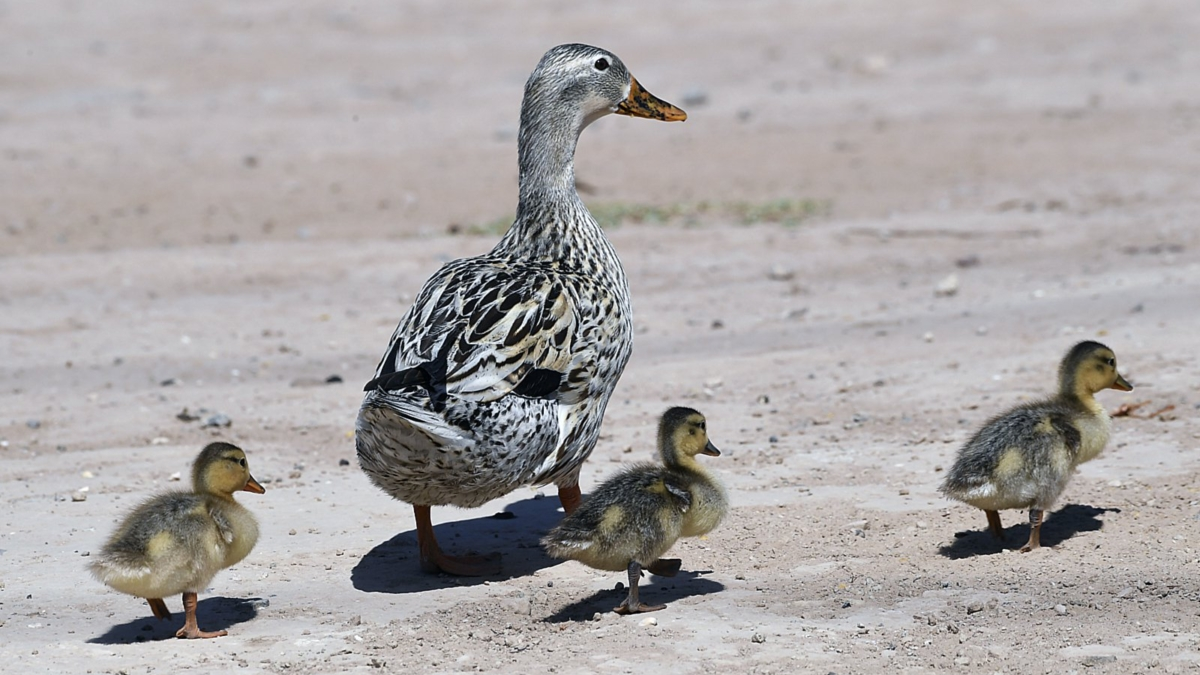duck: (355, 27, 690, 575)
duckling: (538, 407, 753, 607), (941, 330, 1127, 561), (84, 441, 270, 641)
